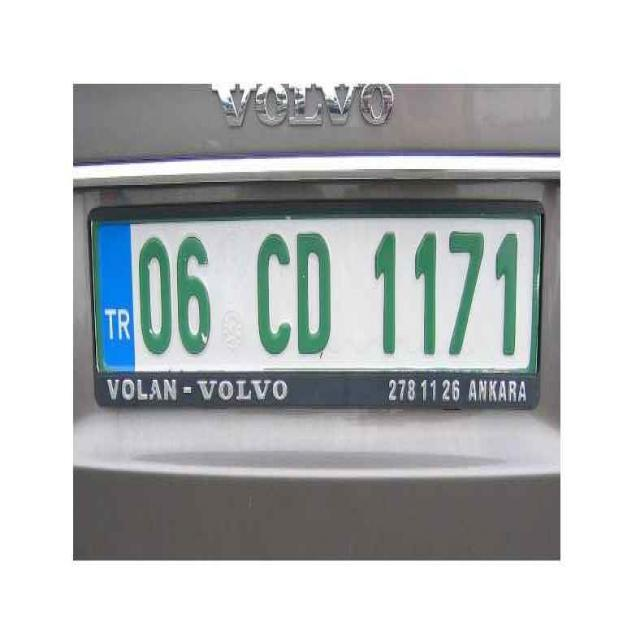plate: (91, 204, 544, 412)
